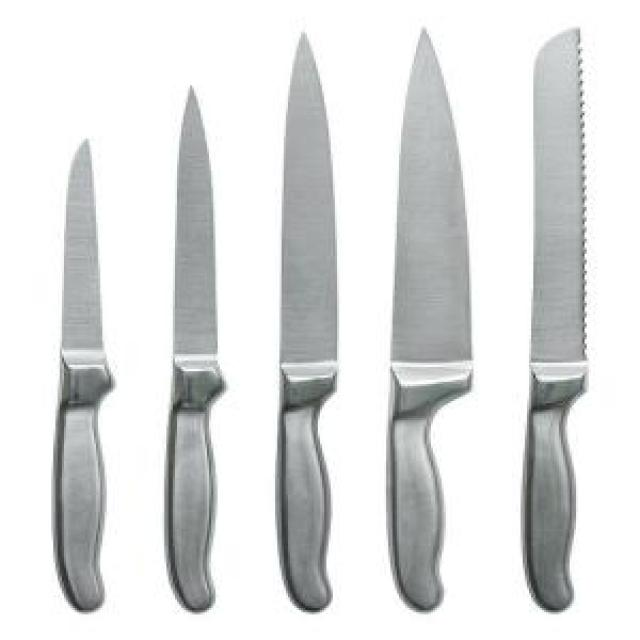knife: (512, 13, 618, 622), (380, 17, 481, 614), (271, 24, 350, 626), (43, 128, 127, 607), (164, 70, 233, 639)
